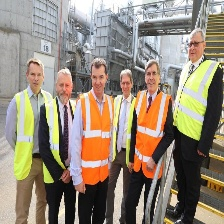no-helmet: (89, 54, 112, 71), (26, 58, 46, 74), (188, 25, 206, 40), (56, 69, 74, 80), (120, 68, 133, 80), (144, 60, 160, 69)
person: (175, 25, 224, 224), (10, 58, 53, 222), (76, 55, 115, 224), (135, 61, 174, 224), (41, 65, 78, 220), (109, 64, 138, 224)
vest: (10, 86, 56, 191), (71, 92, 116, 186), (176, 59, 221, 145), (133, 86, 171, 179)
